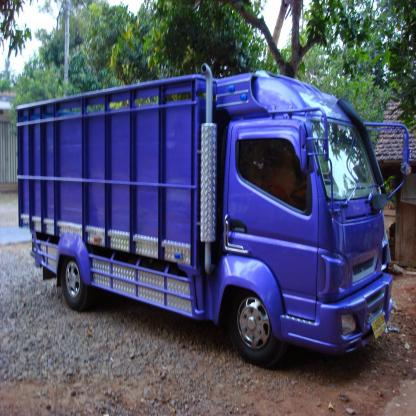truck: (17, 70, 414, 368)
